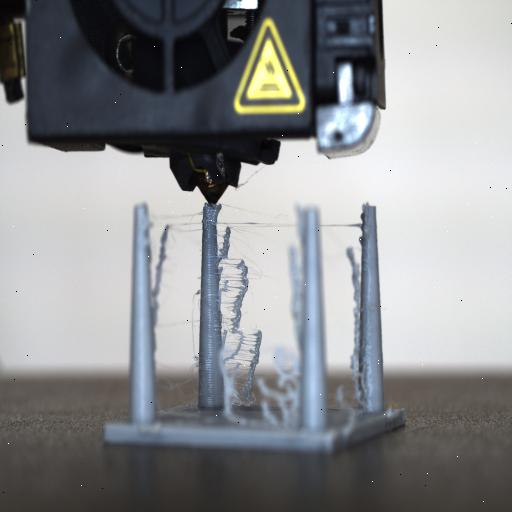stringing: (145, 202, 357, 416)
